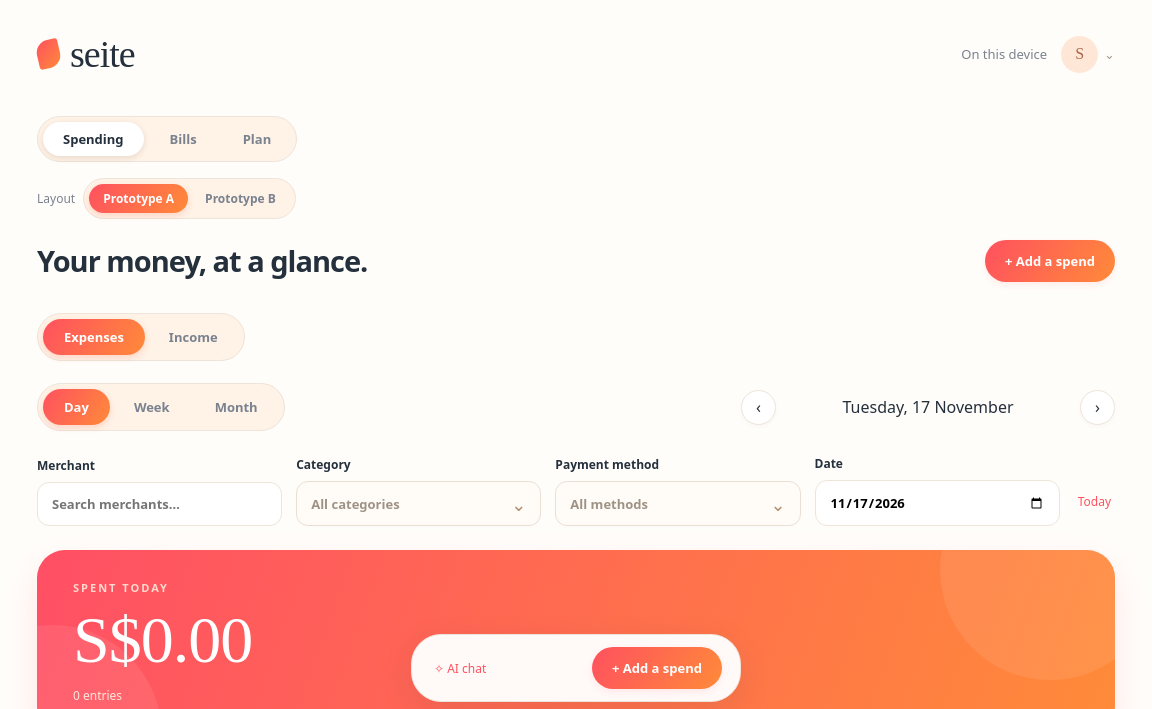
it: account navigation › opens profile from the tracker menu and returns to the tracker
expect the heading "Your money, at a glance." is shown: met, box [37,241,367,280]
Click the heading named "Open account menu": click(1088, 54) [1061,36,1115,72]
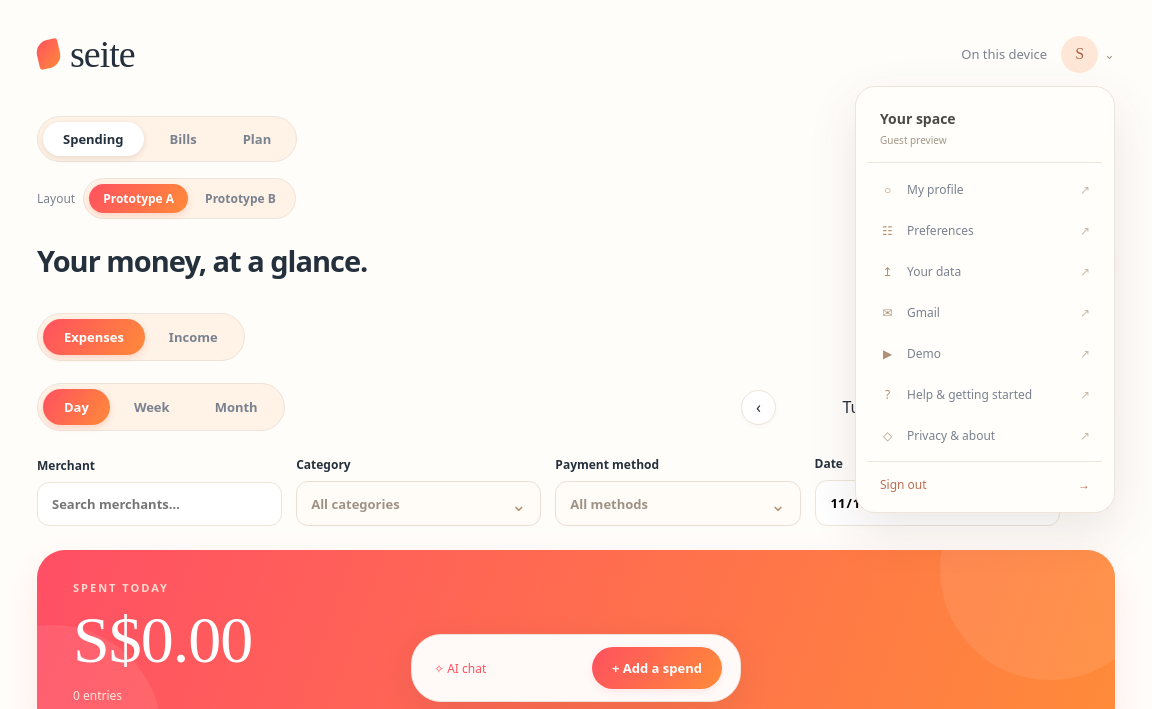
Click the button "○ My profile ↗": click(985, 189) [868,168,1102,210]
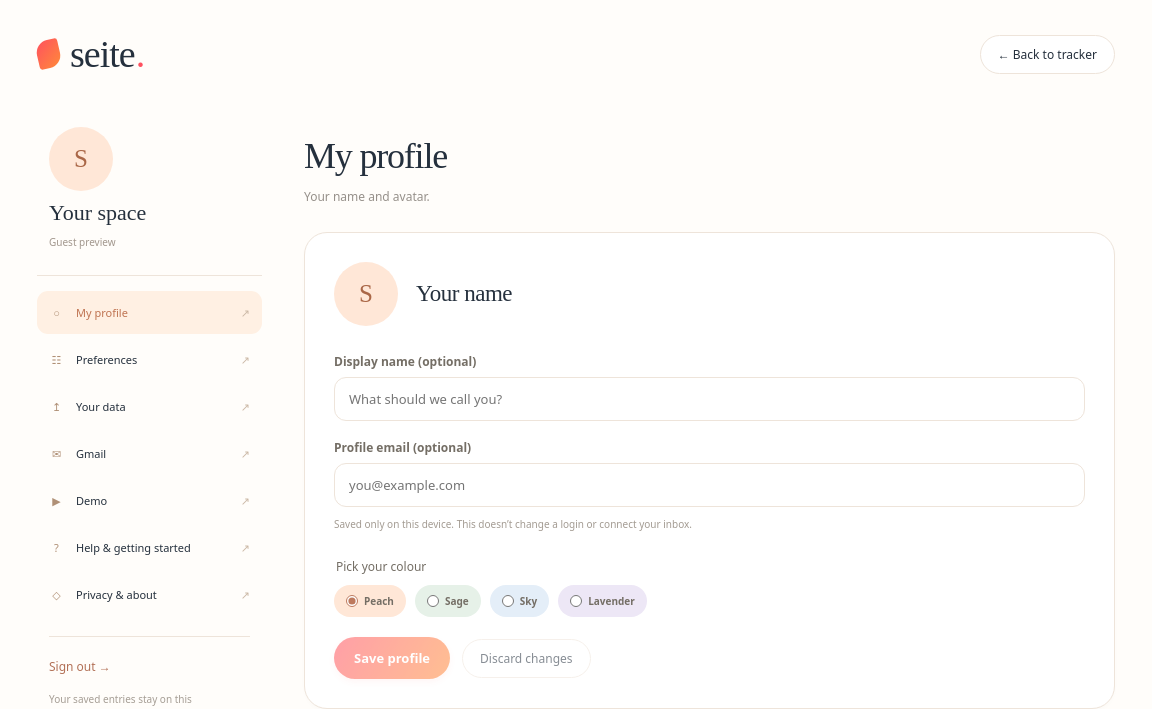
expect the heading "My profile" is shown: met, box [304,136,447,176]
Click the button "← Back to tracker": click(1047, 54) [980,34,1115,74]
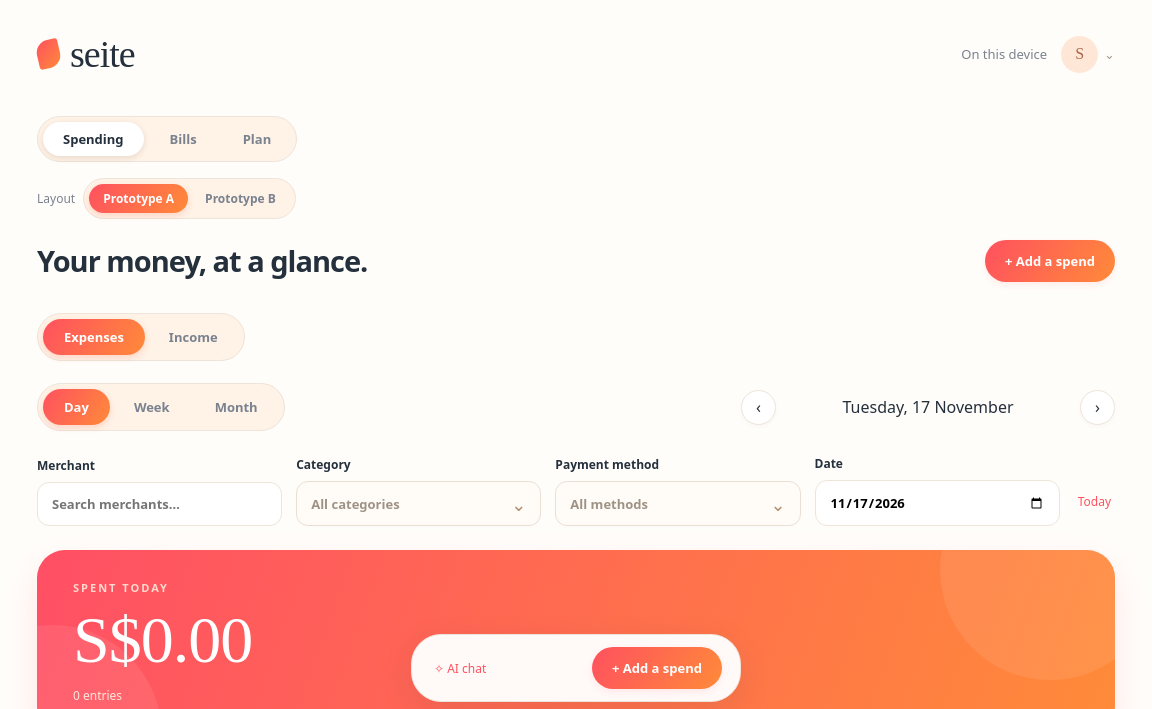
expect the heading "Your money, at a glance." is shown: met, box [37,241,367,280]
